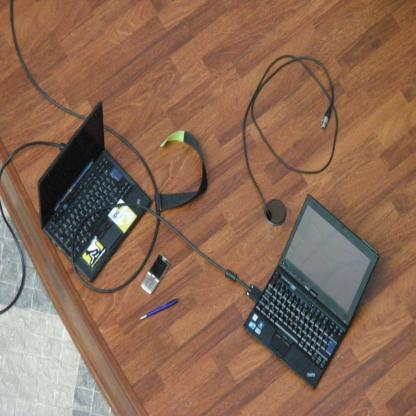board: (239, 196, 380, 393), (37, 101, 152, 283)
